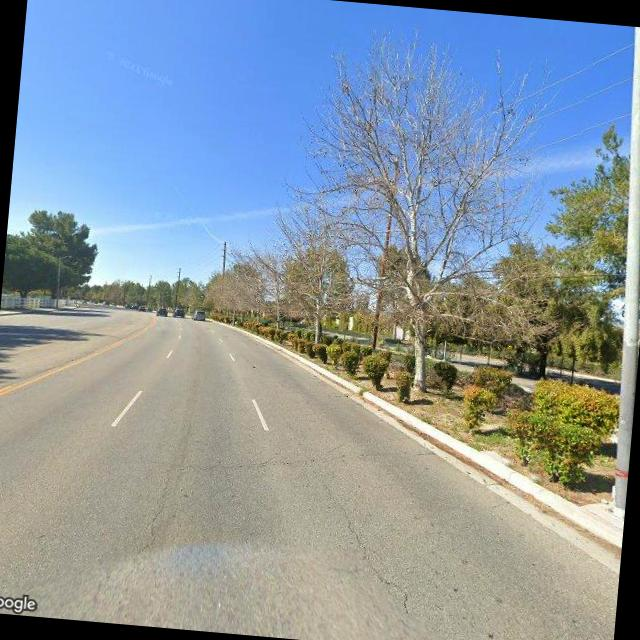crack: (301, 475, 426, 620), (135, 472, 172, 558)
